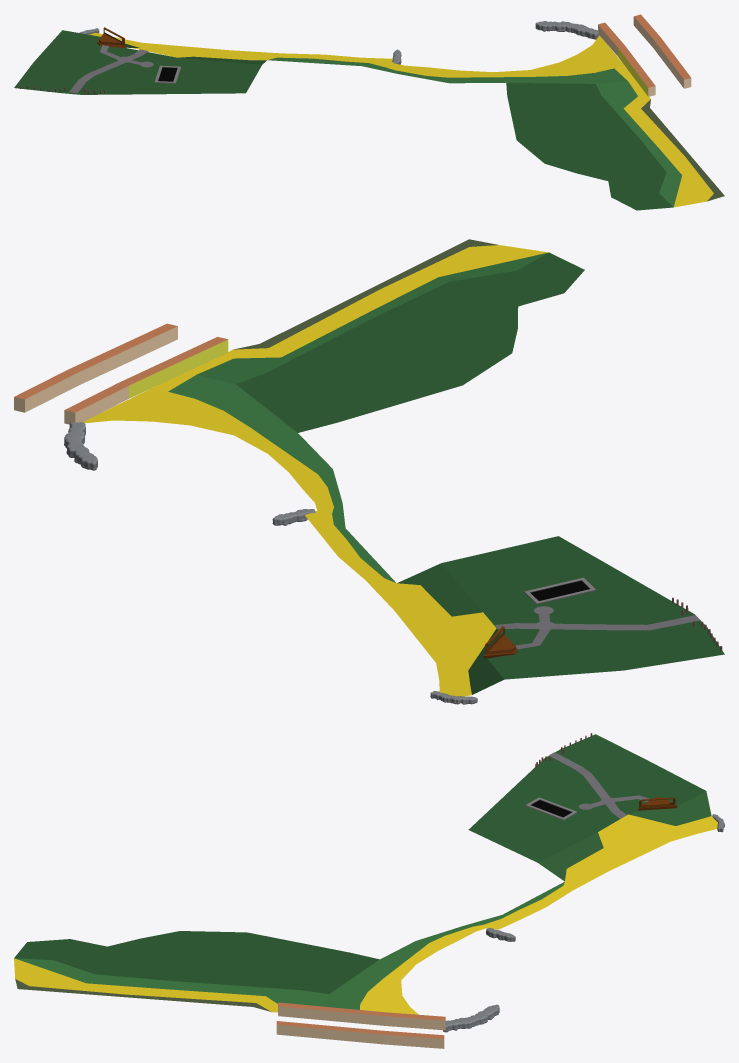
File: mainbeach14.glb
3 views of the same model, one above another, from view 1: azimuth 30°, elevation 25°; view 2: azimuth 150°, elevation 25°; view 3: azimuth 270°, elevation 25° (orthographic). The views are drawn at different scales.
Visible parts, largest first — view 1: RockWalkway03.002; view 2: RockWalkway03.002; view 3: RockWalkway03.002.
Boxes of the visible parts, <box> form: RockWalkway03.002: <box>14,14,724,210</box>; RockWalkway03.002: <box>14,239,724,704</box>; RockWalkway03.002: <box>14,733,724,1048</box>.
Bounding box in the file's own units: 0.4696 × 0.0223 × 0.4813.
